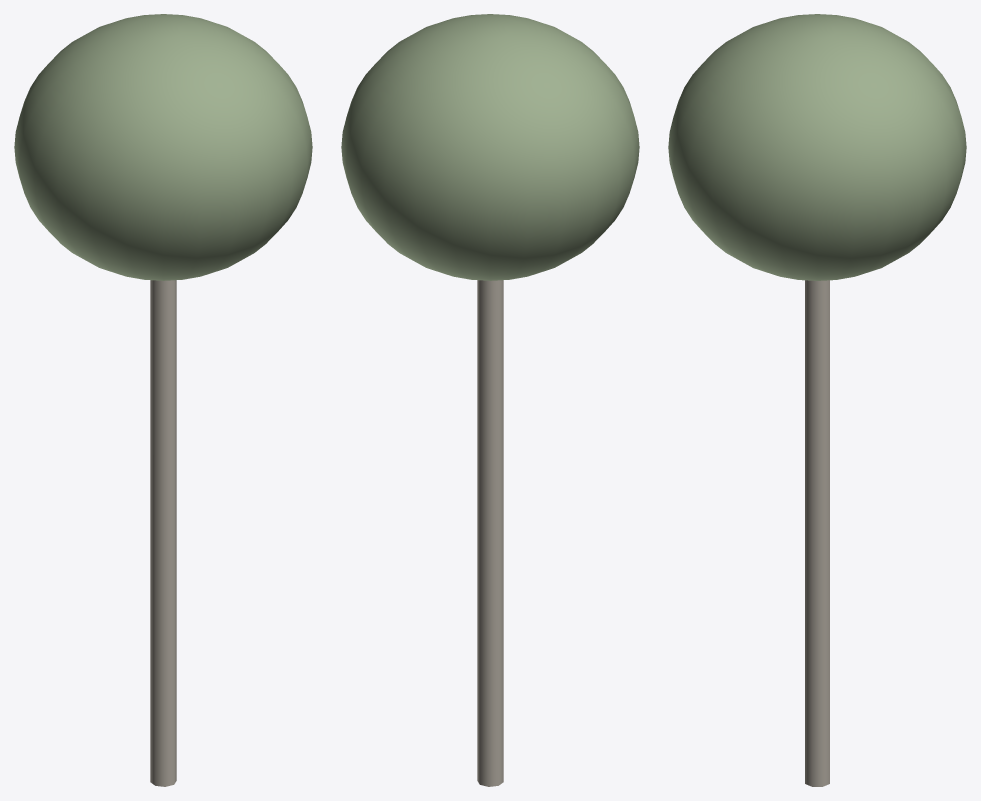
Rendered from SabalMexicana.glb.
The picture shows the model from 3 angles, left to right: view 1: azimuth 30°, elevation 25°; view 2: azimuth 150°, elevation 25°; view 3: azimuth 270°, elevation 25°; orthographic projection.
Visible parts, largest first — view 1: Mexican_Palmetto__Schematic_LOD3; view 2: Mexican_Palmetto__Schematic_LOD3; view 3: Mexican_Palmetto__Schematic_LOD3.
Boxes of the visible parts, bbox=[...] form: Mexican_Palmetto__Schematic_LOD3: bbox=[14, 14, 312, 786]; Mexican_Palmetto__Schematic_LOD3: bbox=[341, 14, 639, 786]; Mexican_Palmetto__Schematic_LOD3: bbox=[668, 14, 966, 786].
Bounding box in the file's own units: 6.68 × 18.58 × 6.68.
